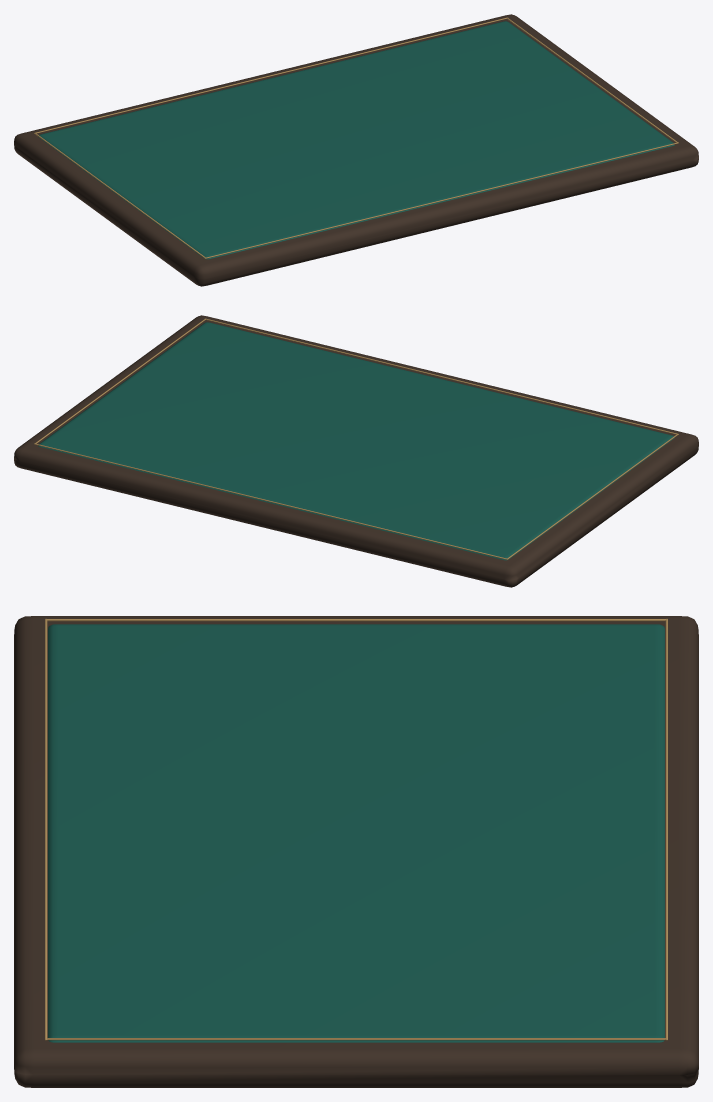
The model's file is sichuan_table.glb.
The picture shows the model from 3 angles, top to bottom: view 1: azimuth 30°, elevation 25°; view 2: azimuth 150°, elevation 25°; view 3: azimuth 270°, elevation 25°; orthographic projection. The views are drawn at different scales.
Parts seen in each view (by area): view 1: TableFelt, TableFrame, CopperTop, CopperBottom; view 2: TableFelt, TableFrame, CopperBottom, CopperTop; view 3: TableFelt, TableFrame, CopperLeft, CopperRight, CopperBottom, CopperTop.
Part boxes in pixels (x1,y1,x2,y2): TableFelt: [38, 21, 674, 259]; TableFrame: [14, 14, 698, 286]; CopperTop: [204, 142, 678, 258]; CopperBottom: [34, 17, 507, 133]; TableFelt: [38, 322, 674, 560]; TableFrame: [14, 315, 698, 587]; CopperBottom: [34, 443, 508, 559]; CopperTop: [205, 318, 678, 434]; TableFelt: [48, 624, 664, 1042]; TableFrame: [14, 616, 698, 1087]; CopperLeft: [46, 619, 666, 621]; CopperRight: [47, 1038, 665, 1040]; CopperBottom: [665, 618, 667, 1040]; CopperTop: [45, 618, 47, 1040].
Size of the model in its own units: 14.8 by 0.6375 by 9.6.
